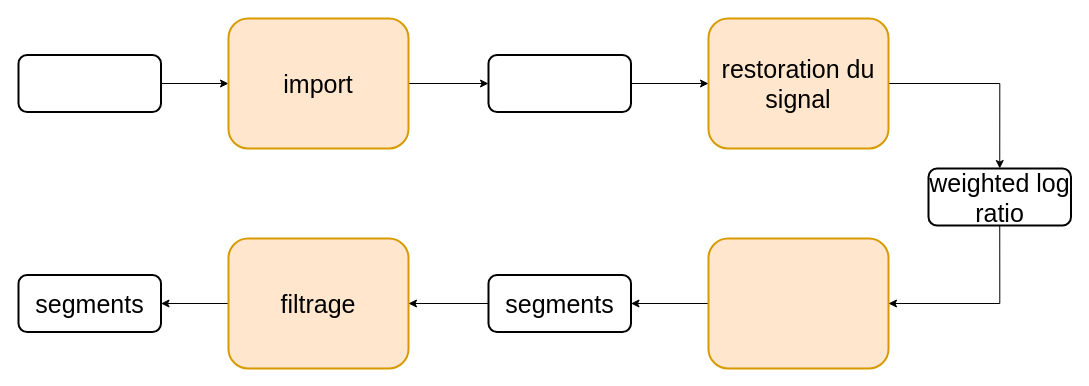
Image size: 1089x386. Some labels were removed from this diagram. The shapes that lost their labels are listed below. From the top down, each one's centre as x and y in pixels, then its label:
the point at 89,83: fichier puce
the point at 559,83: log Ratio brut
the point at 798,303: Hidden Markov Model
